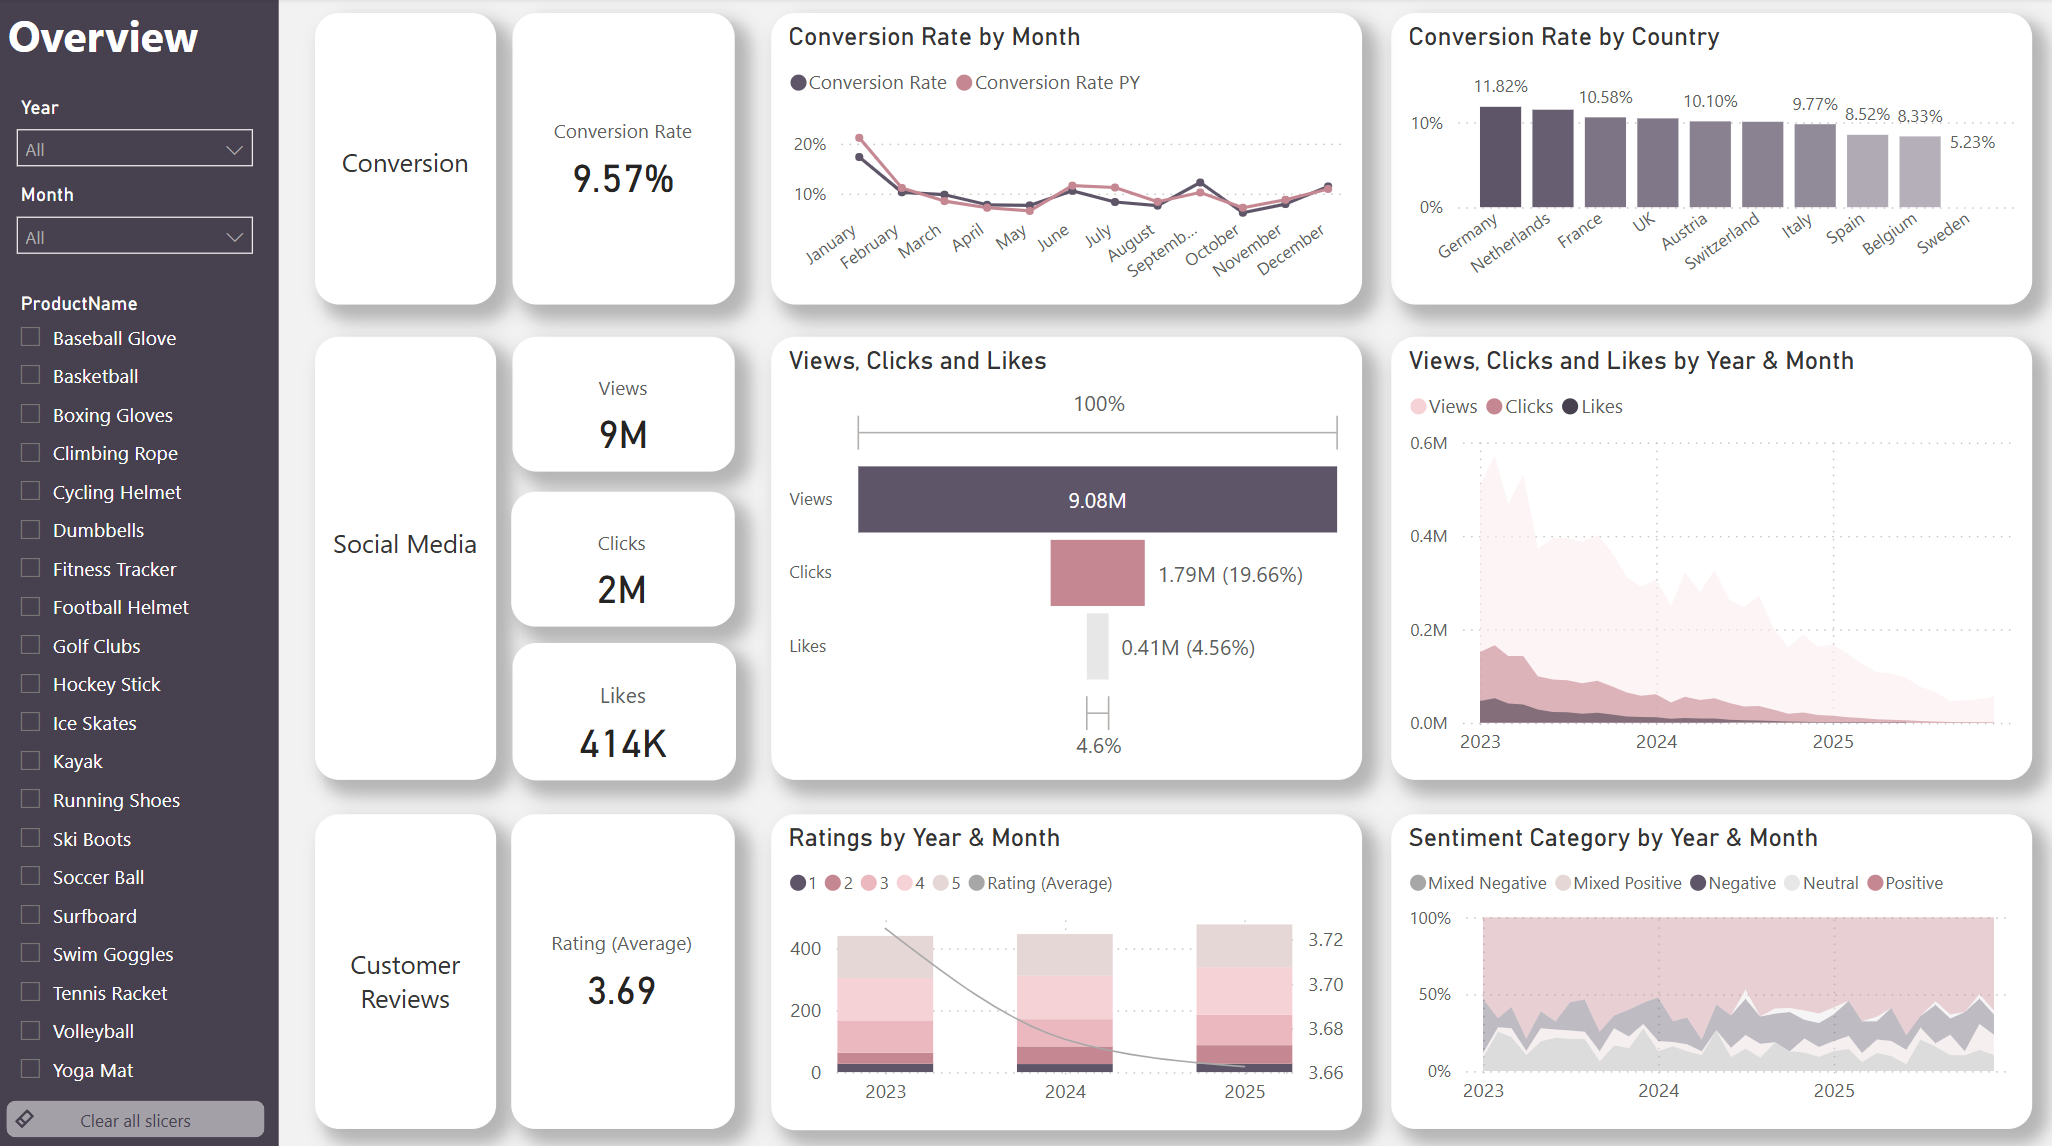

What the dashboard file says about the page in this screenshot:
{"tool":"powerbi","page":{"name":"Overview","canvas":[1280,720],"ordinal":0},"visuals":[{"type":"textbox","box":[0,0,173.5,720],"z":0},{"type":"slicer","fields":{"Values":["dim_products.ProductName"]},"box":[0,178.4,167.4,509],"z":1000},{"type":"textbox","box":[196,9.5,112.7,181.7],"z":2000},{"type":"textbox","box":[196,211.1,112.7,276.2],"z":3000},{"type":"textbox","box":[196,508.7,112.7,196],"z":4000},{"type":"cardVisual","fields":{"Data":["_Calculations.Conversion Rate"]},"box":[319,9.5,138.1,181.7],"z":5000},{"type":"cardVisual","fields":{"Data":["_Calculations.Views"]},"box":[319,211.1,138.1,84.1],"z":6000},{"type":"cardVisual","fields":{"Data":["_Calculations.Clicks"]},"box":[318.3,307.1,138.9,84.1],"z":7000},{"type":"cardVisual","fields":{"Data":["_Calculations.Likes"]},"box":[319,401.6,138.9,85.7],"z":8000},{"type":"cardVisual","fields":{"Data":["_Calculations.Rating (Average)"]},"box":[318.3,508.7,138.9,196],"z":9000},{"type":"slicer","fields":{"Values":["Calendar.Year"]},"box":[0,56.4,167.3,68.2],"z":10000},{"type":"slicer","fields":{"Values":["Calendar.MonthNameLong"]},"box":[0,110.8,167.4,67.6],"z":11000},{"type":"columnChart","fields":{"Y":["_Calculations.Conversion Rate"],"Category":["dim_customers.Country"]},"box":[866.7,9.5,399.2,181.7],"z":12000},{"type":"lineStackedColumnComboChart","title":"Ratings by Year & Month","fields":{"Category":["Calendar.Date.Variation.Date Hierarchy.Year","Calendar.Date.Variation.Date Hierarchy.Month"],"Y2":["_Calculations.Rating (Average)"],"Y":["_Calculations.Number of Customer Reviews"],"Series":["fact_customer_reviews_with_sentiment.Rating"]},"box":[480,508.3,368.3,196.7],"z":13000},{"type":"hundredPercentStackedAreaChart","title":"Sentiment Category by Year & Month","fields":{"Y":["_Calculations.Number of Customer Reviews"],"Series":["fact_customer_reviews_with_sentiment.SentimentCategory"],"Category":["Calendar.Date.Variation.Date Hierarchy.Year","Calendar.Date.Variation.Date Hierarchy.Month"]},"box":[866.7,508.7,399.2,196],"z":14000},{"type":"funnel","fields":{"Y":["_Calculations.Views","_Calculations.Clicks","_Calculations.Likes"]},"box":[480.2,211.1,368.3,276.2],"z":15000},{"type":"lineChart","title":"Conversion Rate by Month","fields":{"Y":["_Calculations.Conversion Rate","_Calculations.Conversion Rate PY"],"Category":["Calendar.Date.Variation.Date Hierarchy.Month"]},"box":[480.2,9.5,368.3,181.7],"z":16000},{"type":"areaChart","title":"Views, Clicks and Likes by Year & Month","fields":{"Y":["_Calculations.Views","_Calculations.Clicks","_Calculations.Likes"],"Category":["Calendar.Date.Variation.Date Hierarchy.Year","Calendar.Date.Variation.Date Hierarchy.Month"]},"box":[866.7,211.1,399.2,276.2],"z":17000},{"type":"actionButton","box":[4,687,161,23],"z":18000}]}

Visuals, with their boxes in screenshot pixels (x1, y1, x2, y2), scaled from the page's 1280x720 canvas onto the 2052x1146 screenshot:
textbox: Rect(0, 0, 278, 1145)
slicer - dim_products.ProductName: Rect(0, 284, 268, 1094)
textbox: Rect(314, 15, 495, 304)
textbox: Rect(314, 336, 495, 776)
textbox: Rect(314, 810, 495, 1122)
cardVisual - _Calculations.Conversion Rate: Rect(511, 15, 733, 304)
cardVisual - _Calculations.Views: Rect(511, 336, 733, 470)
cardVisual - _Calculations.Clicks: Rect(510, 489, 733, 623)
cardVisual - _Calculations.Likes: Rect(511, 639, 734, 776)
cardVisual - _Calculations.Rating (Average): Rect(510, 810, 733, 1122)
slicer - Calendar.Year: Rect(0, 90, 268, 198)
slicer - Calendar.MonthNameLong: Rect(0, 176, 268, 284)
columnChart - _Calculations.Conversion Rate x dim_customers.Country: Rect(1389, 15, 2029, 304)
"Ratings by Year & Month" lineStackedColumnComboChart: Rect(770, 809, 1360, 1122)
"Sentiment Category by Year & Month" hundredPercentStackedAreaChart: Rect(1389, 810, 2029, 1122)
funnel - _Calculations.Views x _Calculations.Clicks: Rect(770, 336, 1360, 776)
"Conversion Rate by Month" lineChart: Rect(770, 15, 1360, 304)
"Views, Clicks and Likes by Year & Month" areaChart: Rect(1389, 336, 2029, 776)
actionButton: Rect(6, 1093, 265, 1130)
